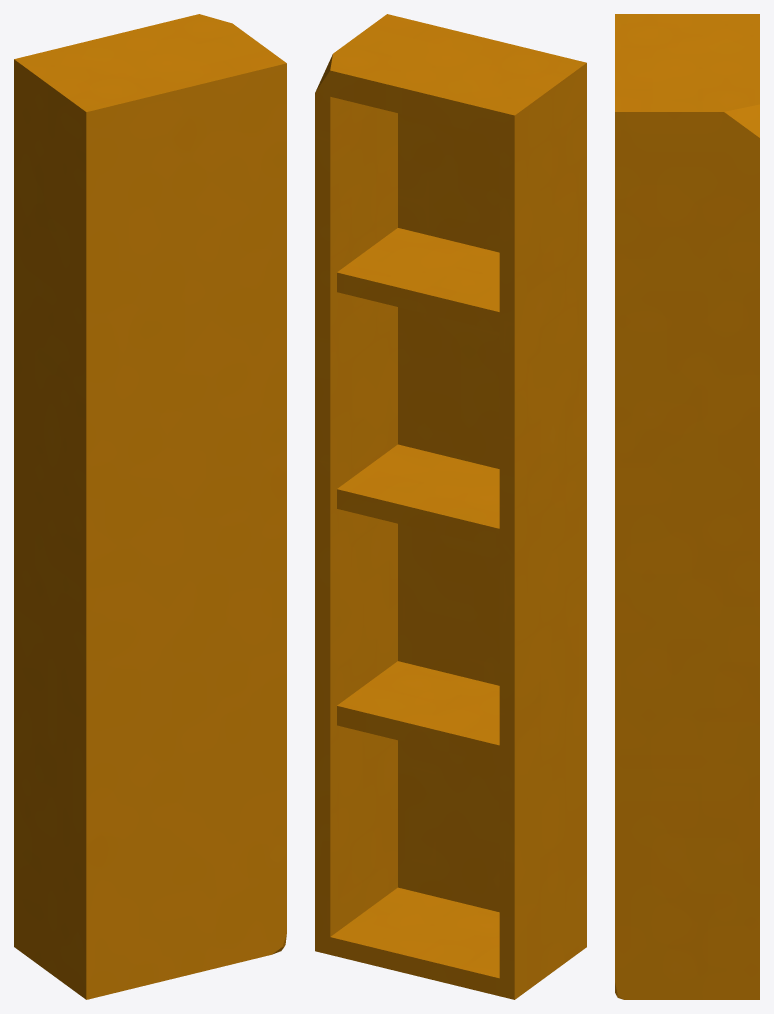
The model's file is Shelf_2.fbx.
3 renders of one model, left to right at view 1: azimuth 30°, elevation 25°; view 2: azimuth 150°, elevation 25°; view 3: azimuth 270°, elevation 25°, orthographic.
Parts seen in each view (by area): view 1: Shelf 2; view 2: Shelf 2; view 3: Shelf 2.
Boxes of the visible parts, x1,y1,x2,y2 form: Shelf 2: (14, 14, 286, 999); Shelf 2: (315, 14, 586, 999); Shelf 2: (615, 14, 759, 999).
Size of the model in its own units: 39.54 by 167 by 24.74.
